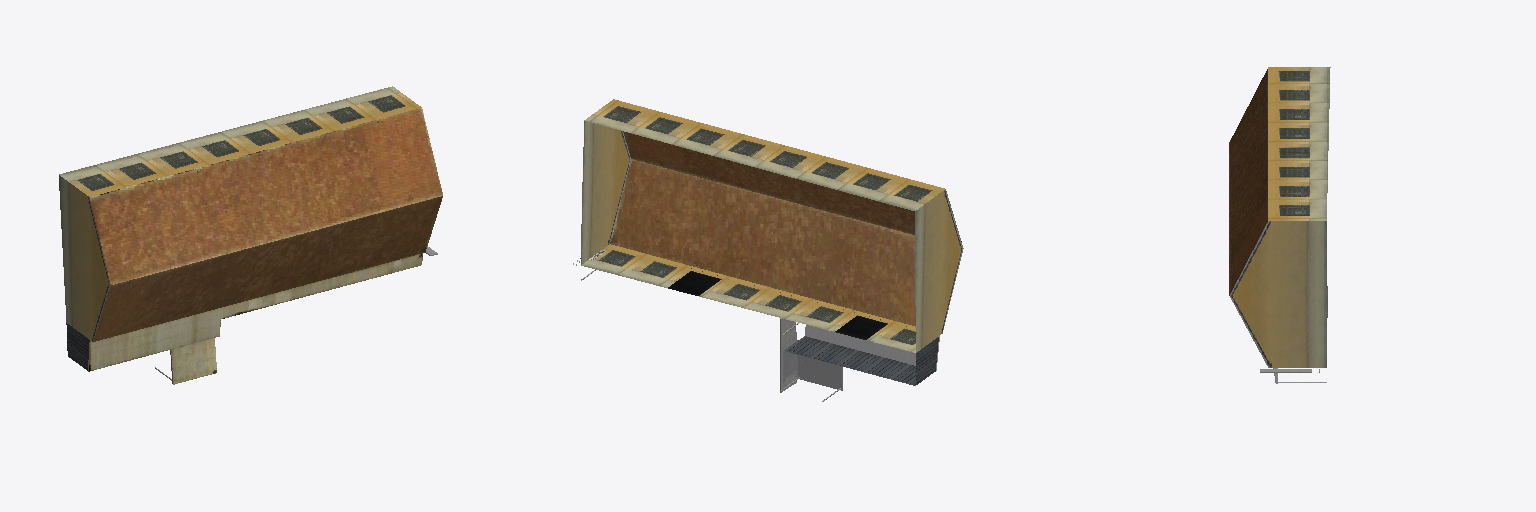
3 views of the same model, side by side, from view 1: azimuth 30°, elevation 25°; view 2: azimuth 150°, elevation 25°; view 3: azimuth 270°, elevation 25° (orthographic).
Parts seen in each view (by area): view 1: Group_MatrixTransform_i96017_Geometry_9, Group_MatrixTransform_i96017_Geometry_10, Group_MatrixTransform_i96017_Geometry_8, Group_MatrixTransform_i96017_Geometry_3, Group_MatrixTransform_i96017_Geometry_7, Group_MatrixTransform_i96017_Geometry_4; view 2: Group_MatrixTransform_i96017_Geometry_9, Group_MatrixTransform_i96017_Geometry_10, Group_MatrixTransform_i96017_Geometry_3, Group_MatrixTransform_i96017_Geometry_4, Group_MatrixTransform_i96017_Geometry_14, Group_MatrixTransform_i96017_Geometry_5, Group_MatrixTransform_i96017_Geometry_6, Group_MatrixTransform_i96017_Geometry_2; view 3: Group_MatrixTransform_i96017_Geometry_3, Group_MatrixTransform_i96017_Geometry_10, Group_MatrixTransform_i96017_Geometry_9.
Part boxes in pixels (x1,y1,x2,y2): Group_MatrixTransform_i96017_Geometry_9: (90,108,442,341); Group_MatrixTransform_i96017_Geometry_10: (59,86,421,196); Group_MatrixTransform_i96017_Geometry_8: (89,253,422,371); Group_MatrixTransform_i96017_Geometry_3: (59,175,110,341); Group_MatrixTransform_i96017_Geometry_7: (171,338,216,384); Group_MatrixTransform_i96017_Geometry_4: (66,323,89,370); Group_MatrixTransform_i96017_Geometry_9: (610,131,915,326); Group_MatrixTransform_i96017_Geometry_10: (584,99,944,352); Group_MatrixTransform_i96017_Geometry_3: (581,121,963,352); Group_MatrixTransform_i96017_Geometry_4: (785,336,938,385); Group_MatrixTransform_i96017_Geometry_14: (676,265,915,390); Group_MatrixTransform_i96017_Geometry_5: (665,267,900,341); Group_MatrixTransform_i96017_Geometry_6: (581,244,650,276); Group_MatrixTransform_i96017_Geometry_2: (780,318,796,392); Group_MatrixTransform_i96017_Geometry_3: (1230,221,1327,367); Group_MatrixTransform_i96017_Geometry_10: (1268,67,1330,220); Group_MatrixTransform_i96017_Geometry_9: (1229,69,1267,295).
Size of the model in its own units: 31.18 by 19.65 by 7.92.
Materials: 17 (17 with a texture image).